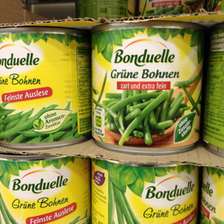beans: (92, 26, 201, 153), (1, 29, 85, 148), (90, 158, 198, 224), (1, 154, 86, 224)
